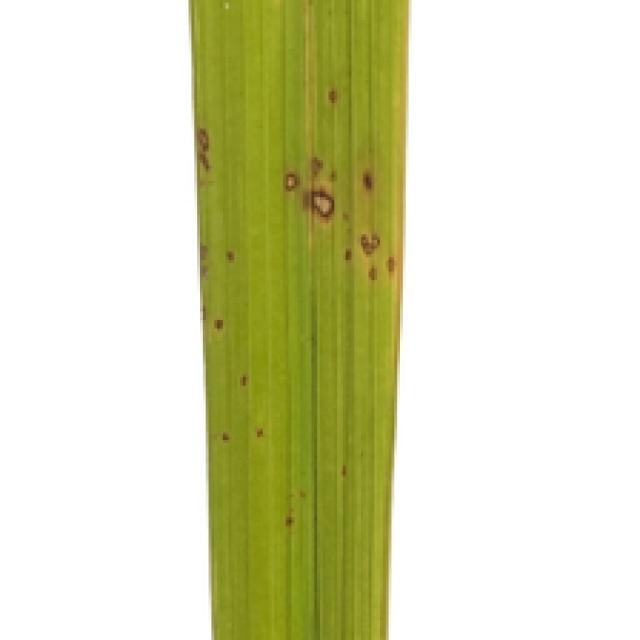Rice___Brown_Spot: (188, 3, 410, 637)
